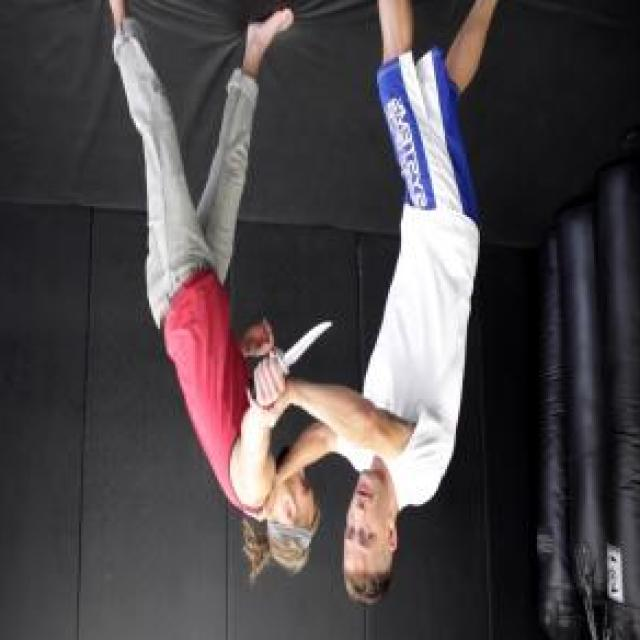knife: (248, 307, 338, 405)
